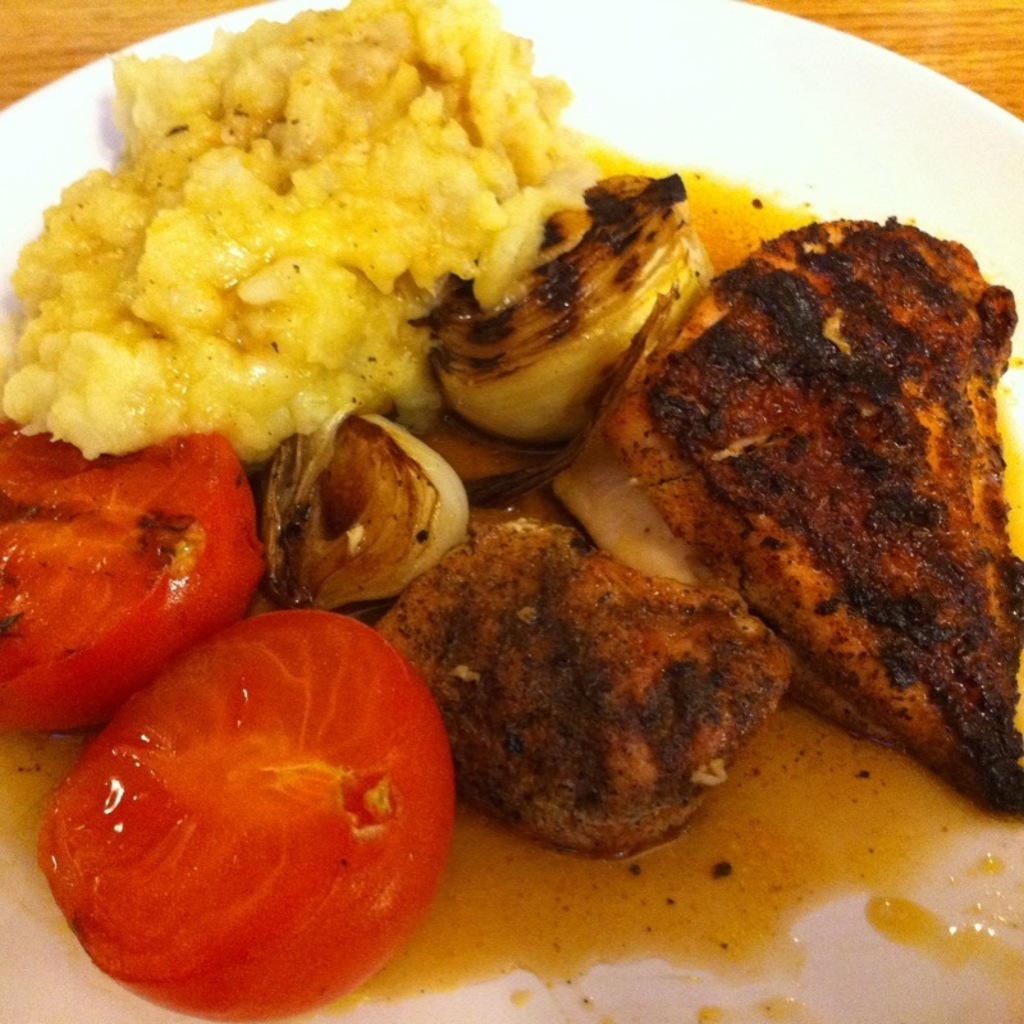Tomato: (39, 604, 456, 1022), (0, 413, 268, 736)
